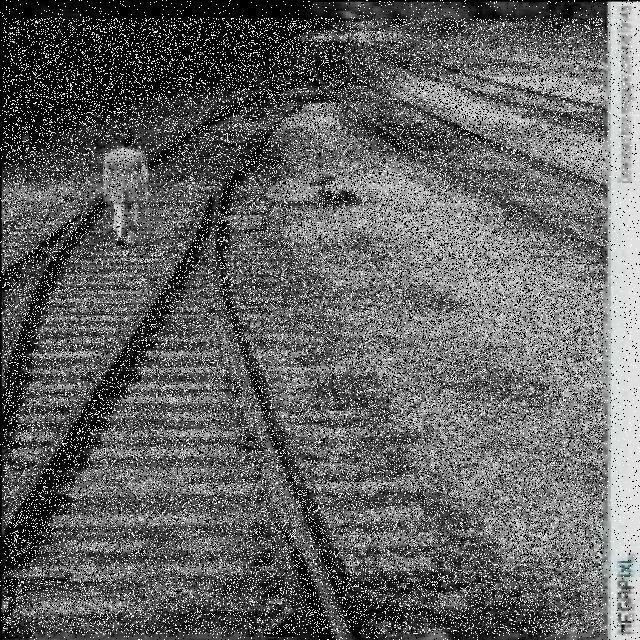danger: (89, 129, 160, 245)
rail: (4, 19, 603, 634)
